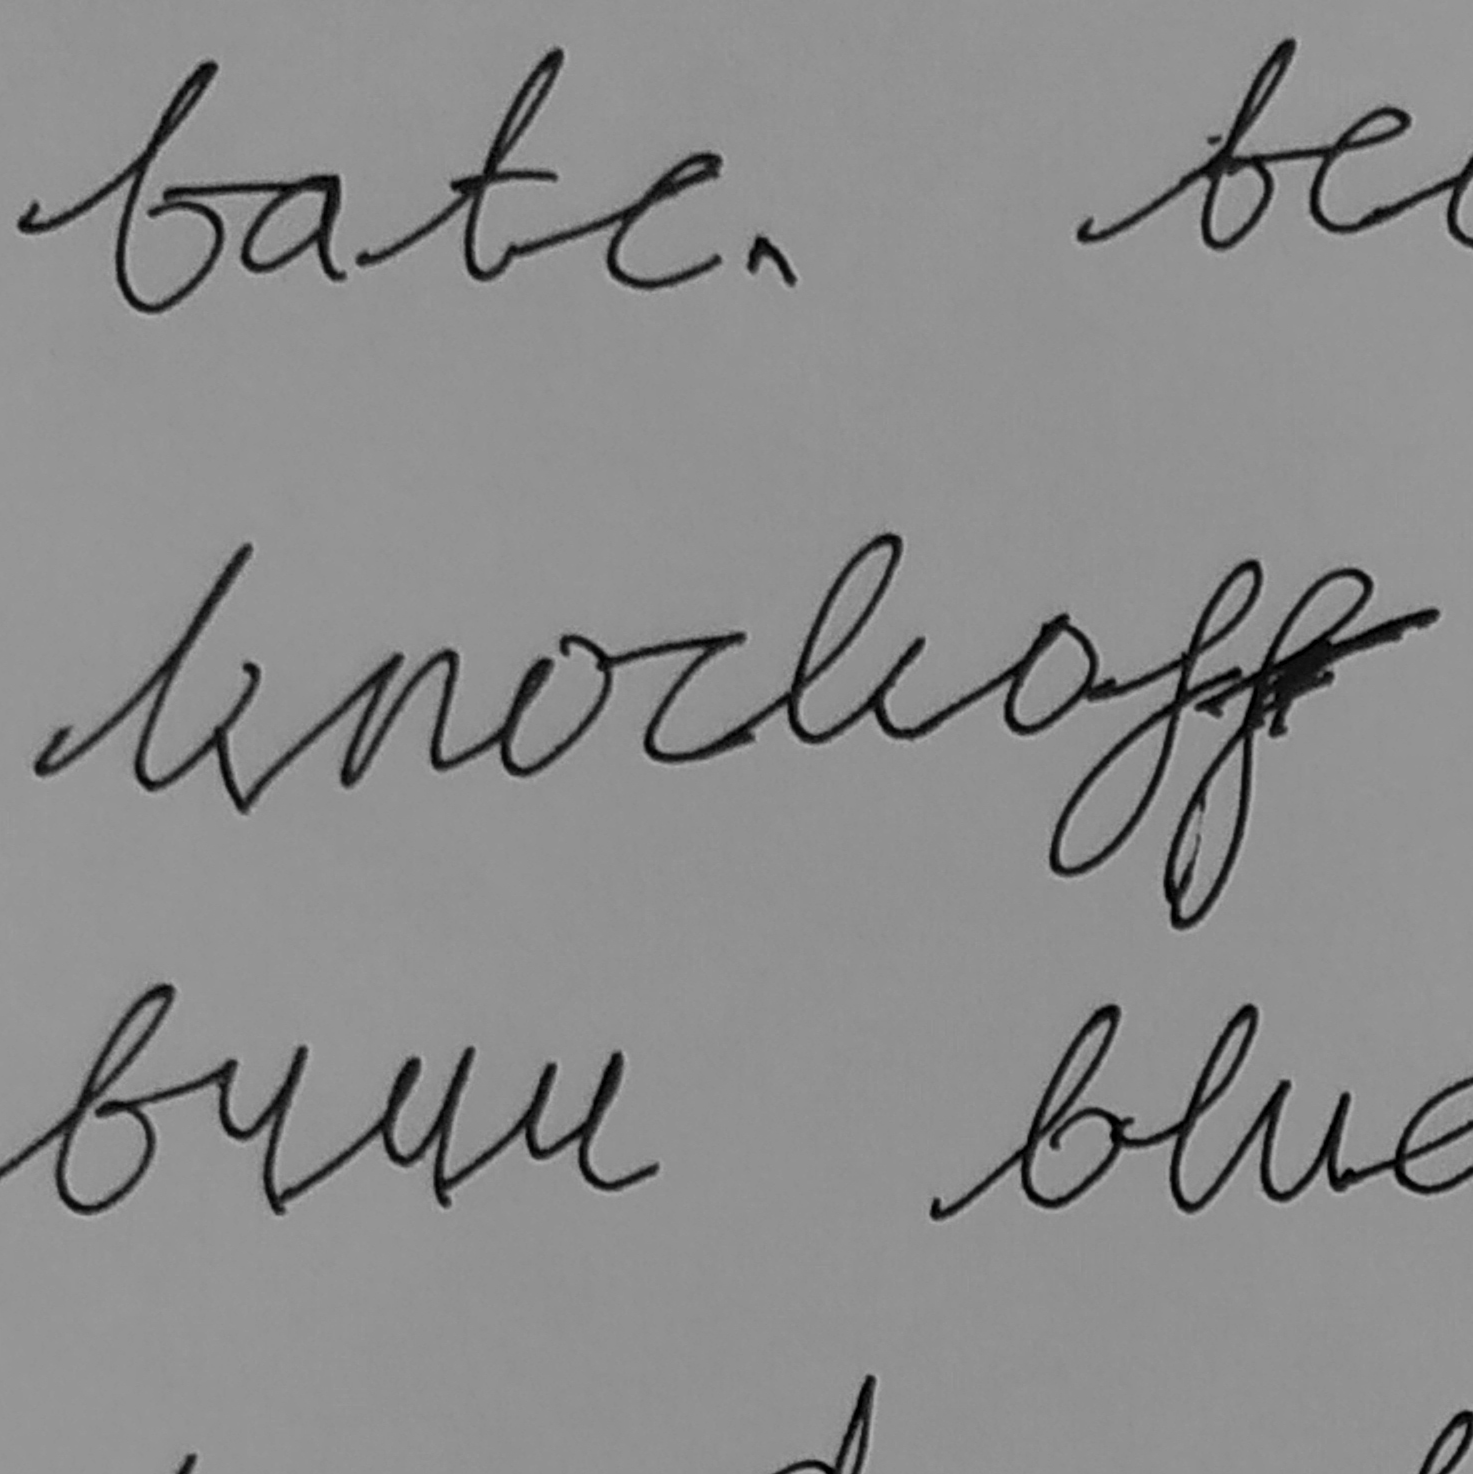c: (638, 628, 754, 770)
f: (1159, 560, 1379, 937), (1043, 556, 1267, 881)
k: (128, 539, 268, 823), (784, 529, 929, 753)
n: (333, 642, 463, 793)
o: (495, 627, 616, 778), (1000, 611, 1102, 738)
